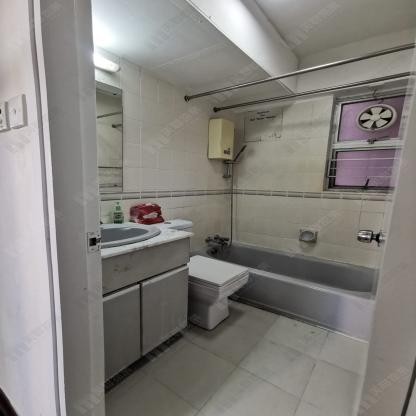Bathtub: (191, 240, 375, 344)
Exhaust Fan: (352, 101, 399, 131)
Toilet: (187, 255, 248, 331), (147, 219, 193, 232)
Toilet Sink: (101, 221, 194, 260)
Water Heater: (208, 118, 234, 160)
